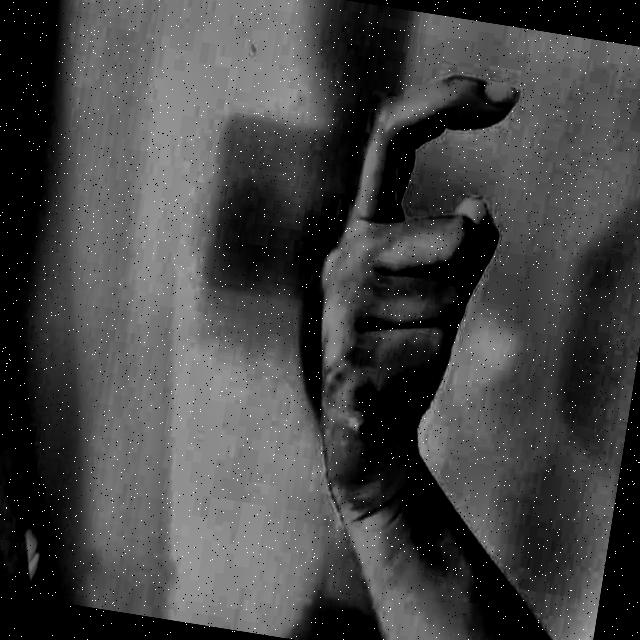E: (263, 24, 578, 564)
